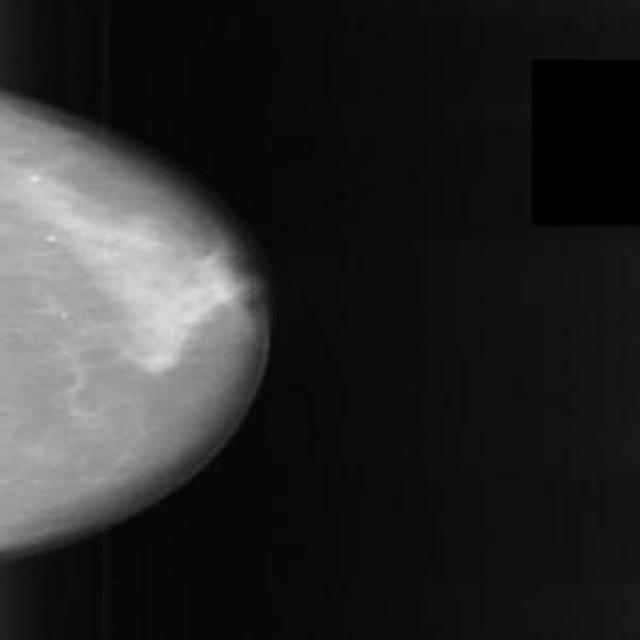tumor: (90, 237, 258, 391)
